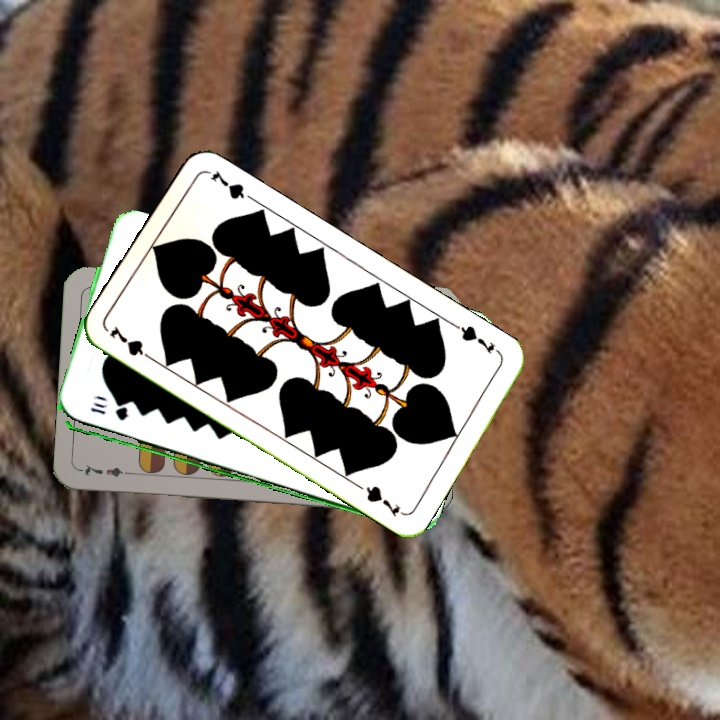E7: (78, 461, 137, 480)
G10: (86, 403, 131, 423)
G7: (105, 322, 158, 365), (450, 320, 504, 358)
